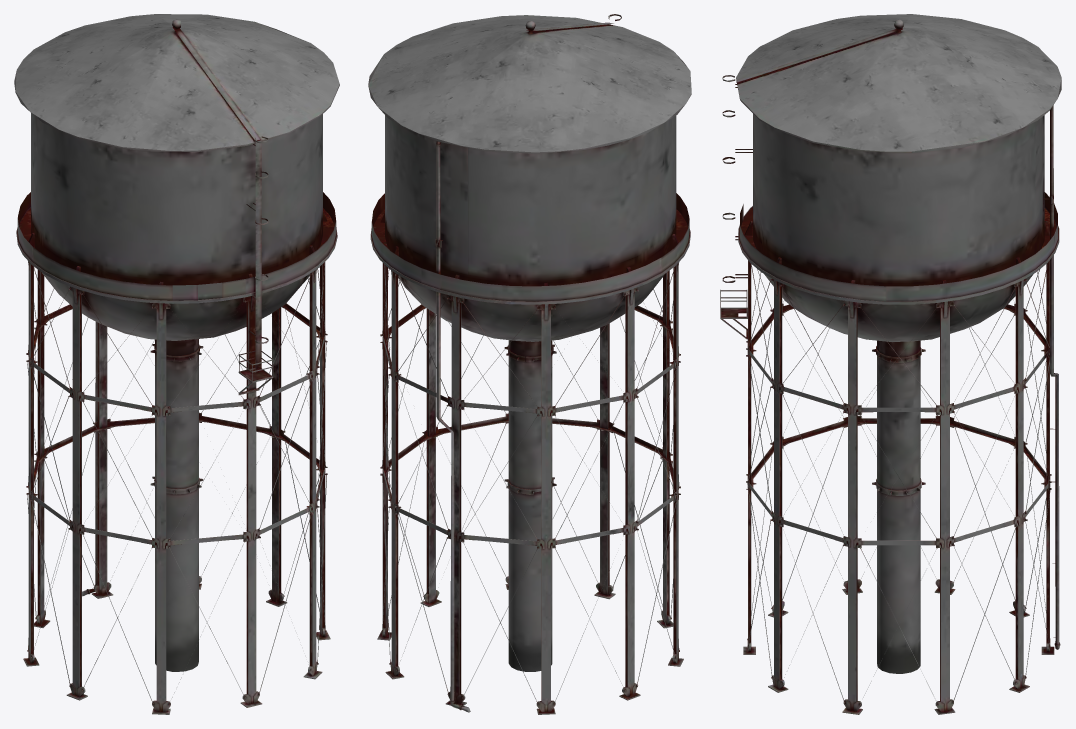
File: water_tanker.glb
3 views of the same model, side by side, from view 1: azimuth 30°, elevation 25°; view 2: azimuth 150°, elevation 25°; view 3: azimuth 270°, elevation 25° (orthographic).
Parts seen in each view (by area): view 1: 02_02_0, 01_01_0; view 2: 02_02_0, 01_01_0; view 3: 02_02_0, 01_01_0.
Part boxes in pixels (<box>): 02_02_0: <box>14,14,339,671</box>; 01_01_0: <box>16,19,337,714</box>; 02_02_0: <box>368,15,691,671</box>; 01_01_0: <box>370,14,690,714</box>; 02_02_0: <box>736,14,1061,673</box>; 01_01_0: <box>720,19,1060,714</box>.
Size of the model in its own units: 17.19 by 37.54 by 18.02.
Materials: 2 (2 with a texture image).
